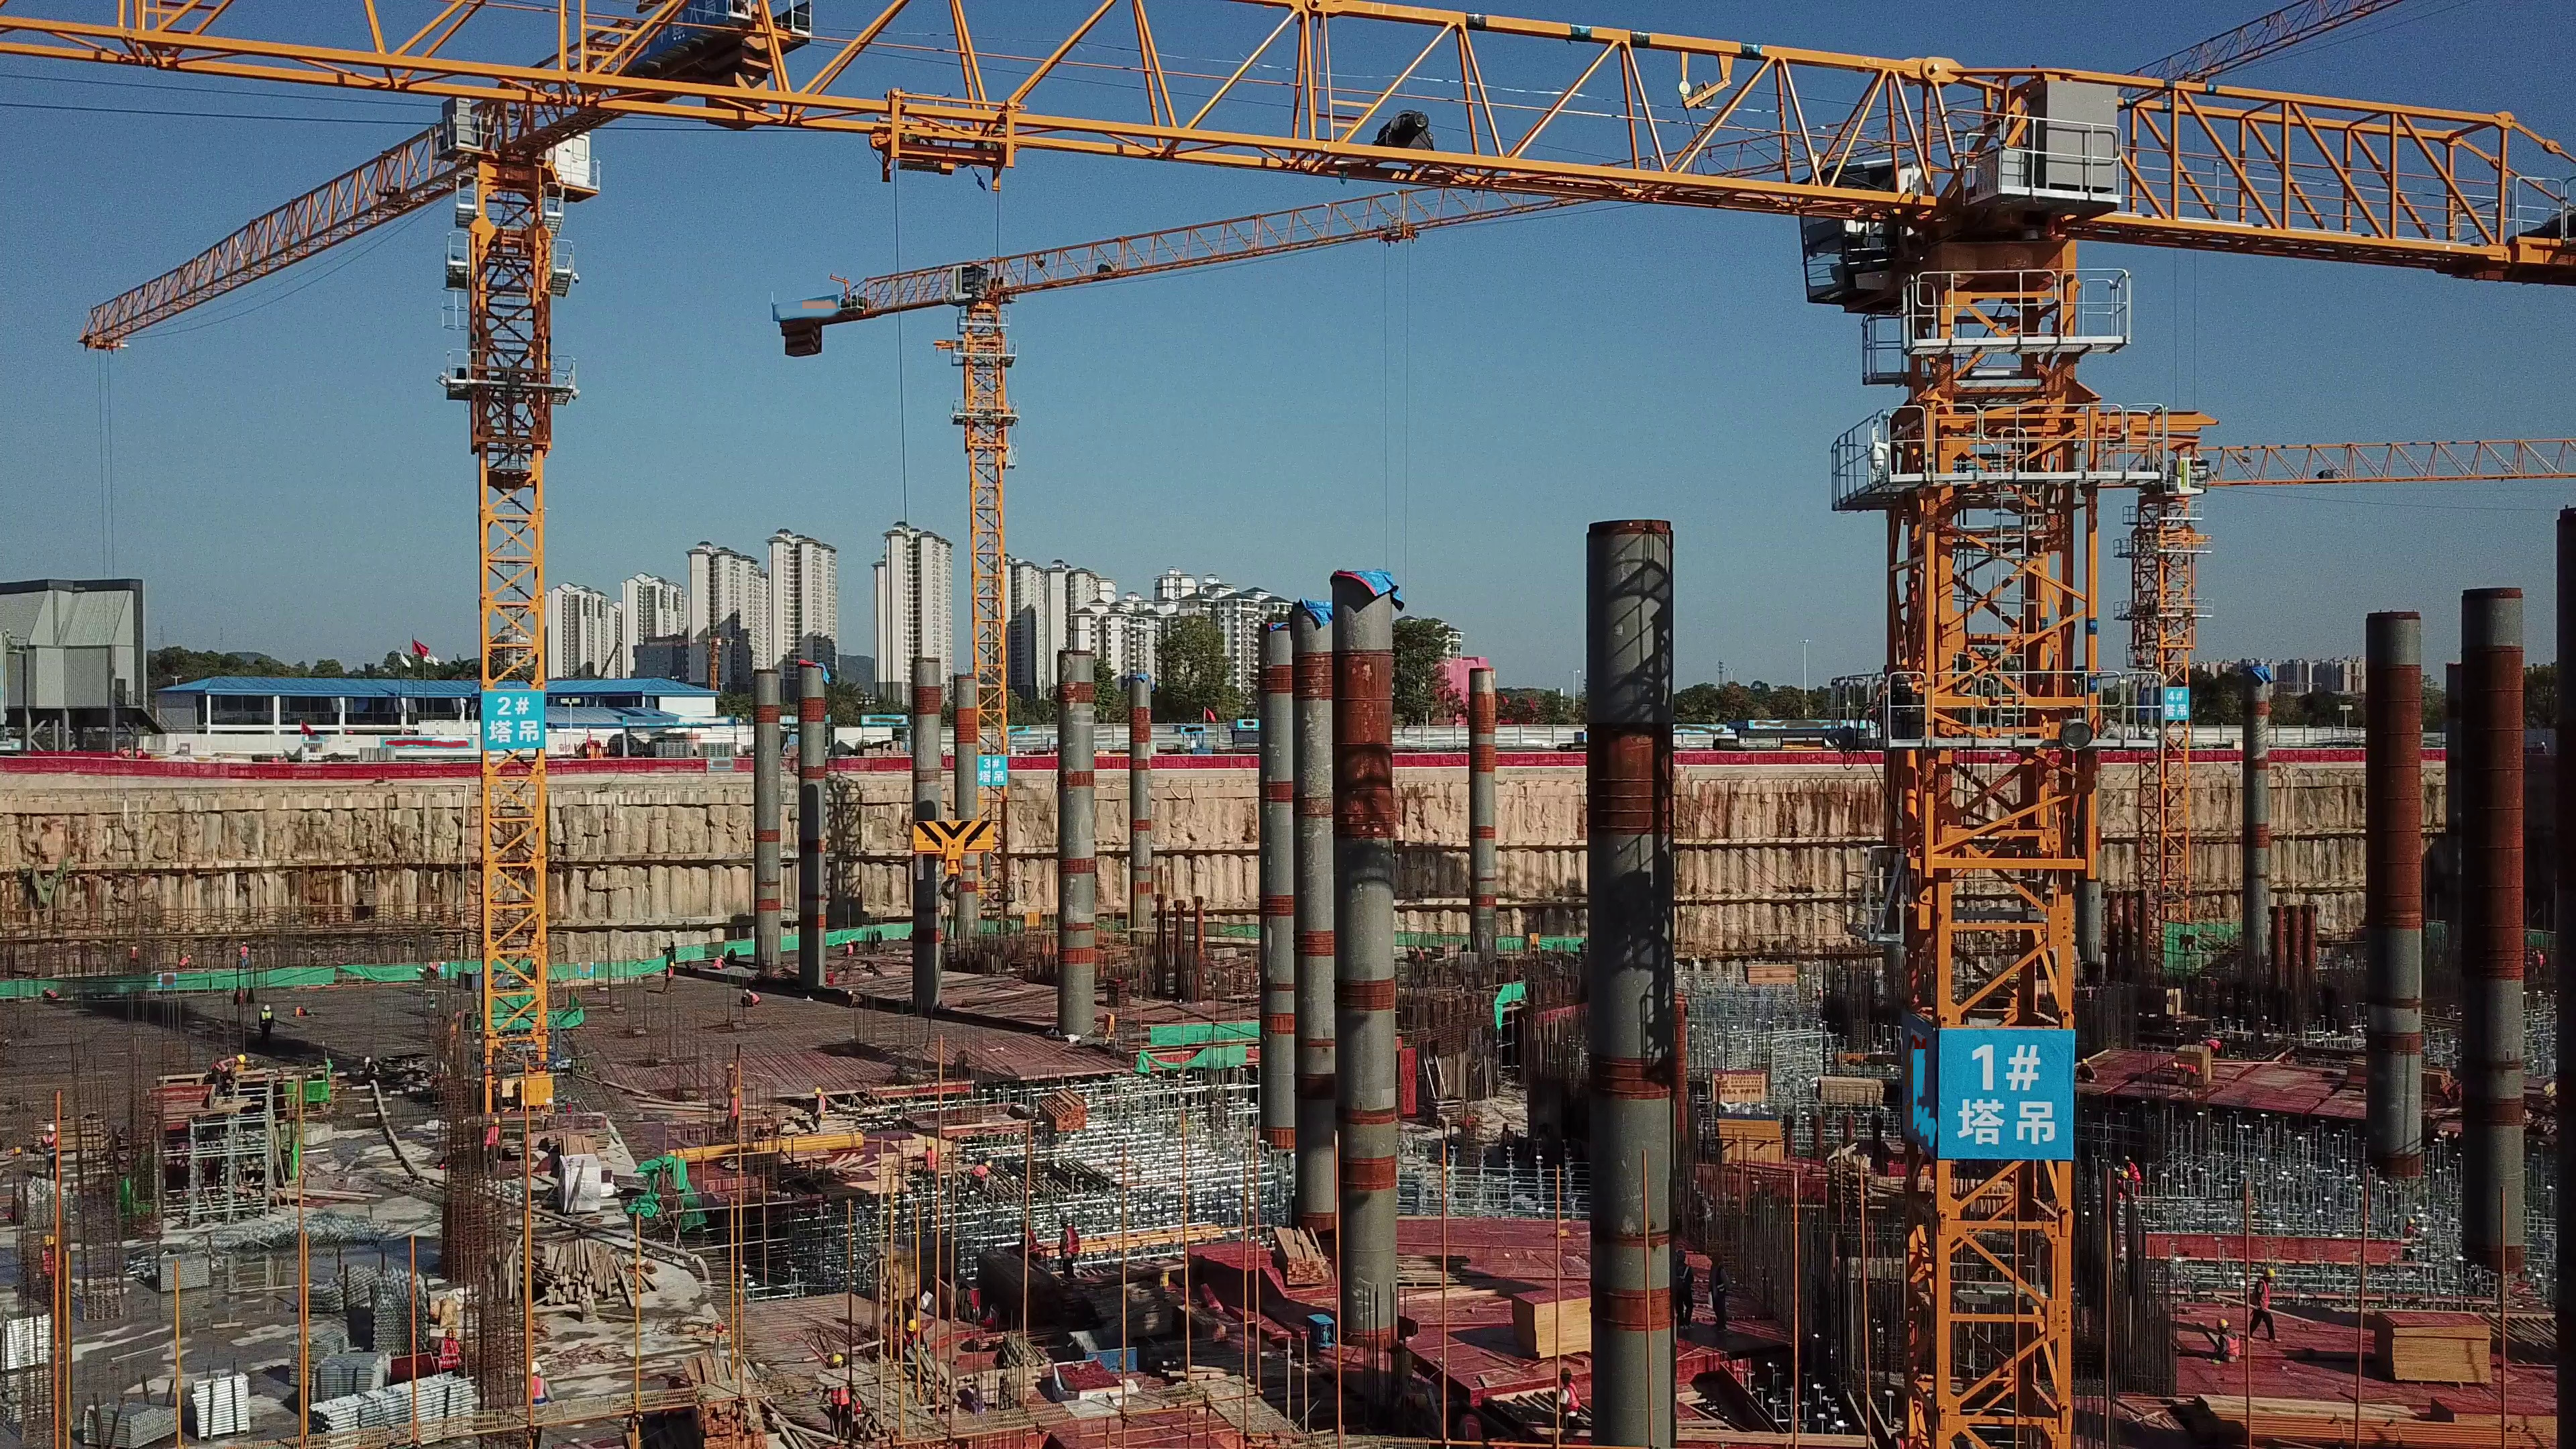board: (2379, 1309, 2502, 1384), (1519, 1282, 1594, 1359)
fence: (1, 745, 468, 782), (1668, 741, 1884, 773), (543, 757, 752, 783), (1375, 748, 1593, 771), (1144, 750, 1256, 774), (815, 755, 912, 774), (1006, 755, 1063, 772), (1085, 755, 1135, 772)
helmet: (2259, 1271, 2275, 1283), (2215, 1316, 2228, 1330), (528, 1361, 542, 1373), (828, 1354, 844, 1366), (908, 1320, 919, 1334), (45, 1124, 55, 1135), (815, 1087, 822, 1093)
hook: (909, 818, 998, 898)
person: (1053, 1215, 1081, 1283), (2255, 1269, 2277, 1339), (213, 1053, 246, 1096), (2210, 1314, 2237, 1358), (967, 1159, 994, 1196), (255, 1006, 273, 1046), (661, 962, 676, 996)
scaffold: (290, 1373, 462, 1444), (360, 1276, 425, 1362), (91, 1395, 184, 1449), (301, 1350, 376, 1401), (1, 1291, 52, 1358), (192, 1373, 239, 1441), (156, 1250, 215, 1292)
vest: (435, 1339, 468, 1369), (2216, 1333, 2244, 1357), (524, 1379, 549, 1406), (1062, 1230, 1083, 1259), (2261, 1285, 2272, 1312), (44, 1134, 57, 1158)
wood: (1275, 1225, 1328, 1291)
